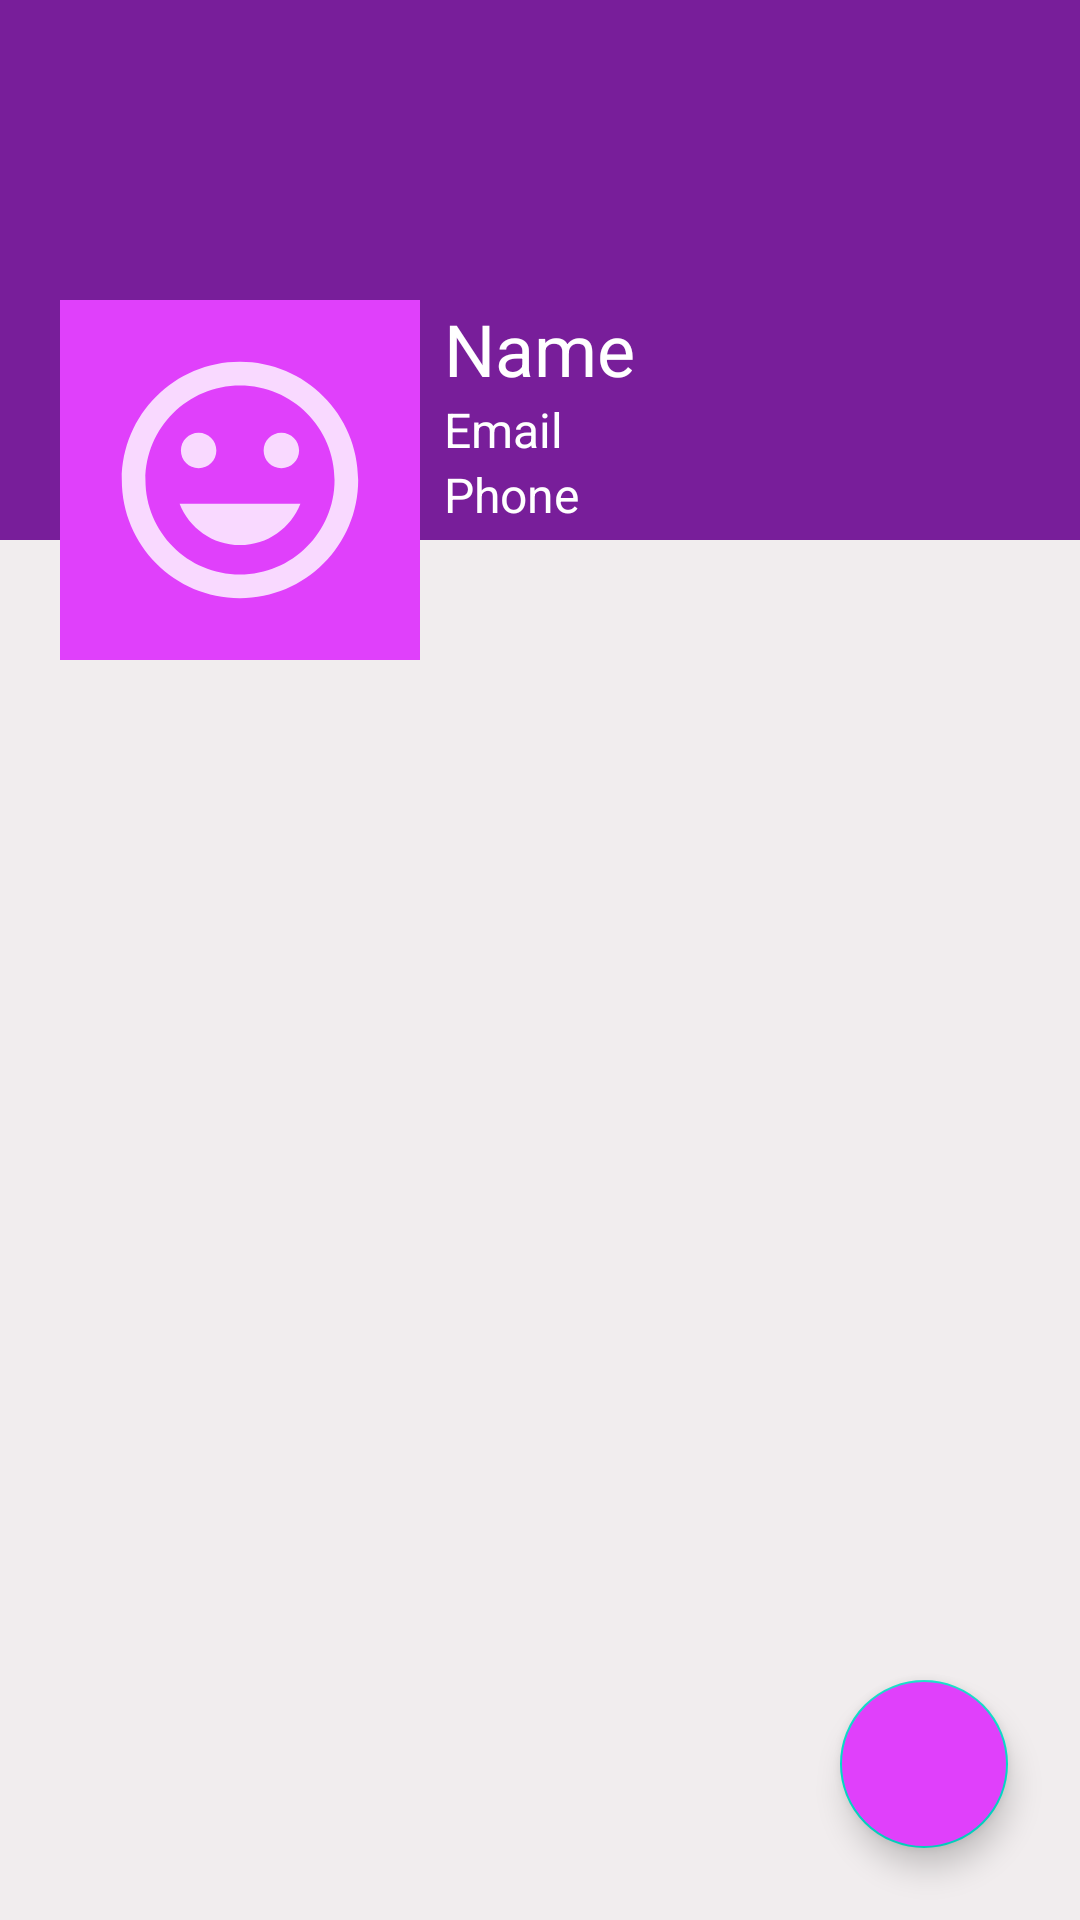

Point at icon controls on the screen. Image size 1080px×1920px, points as [x,y].
face: [240,480]
